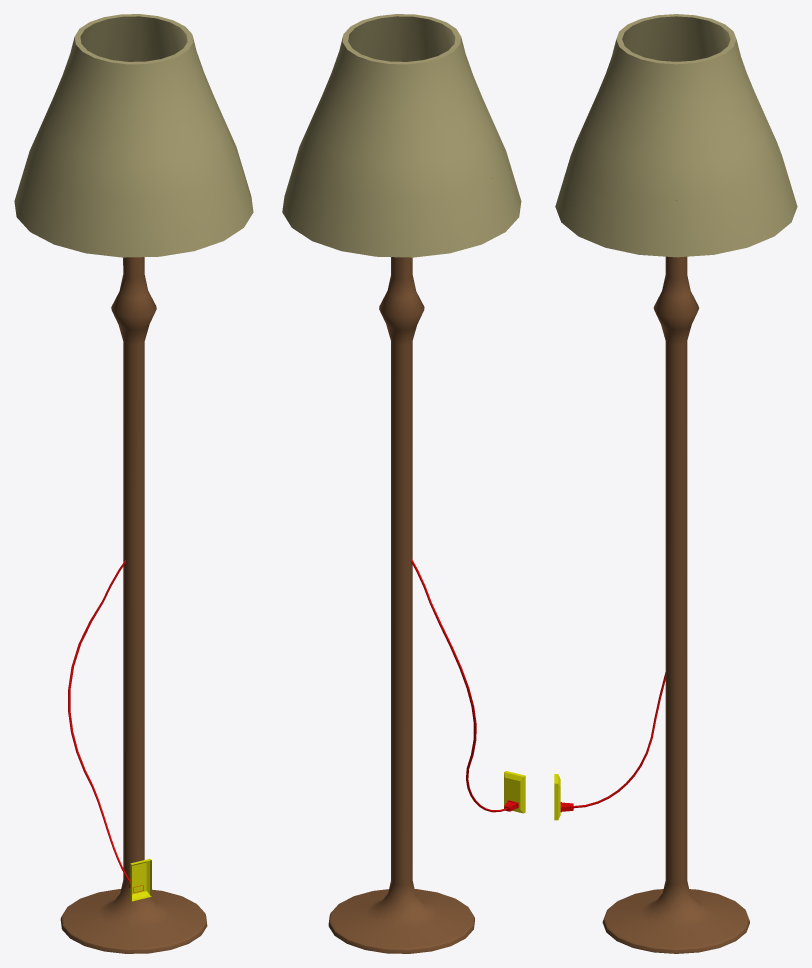
File: lampara_de_sala.fbx
3 views of the same model, side by side, from view 1: azimuth 30°, elevation 25°; view 2: azimuth 150°, elevation 25°; view 3: azimuth 270°, elevation 25° (orthographic).
Visible parts, largest first — view 1: pCylinder8; view 2: pCylinder8; view 3: pCylinder8.
Boxes of the visible parts, bbox=[...] form: pCylinder8: bbox=[14, 14, 253, 953]; pCylinder8: bbox=[282, 14, 525, 953]; pCylinder8: bbox=[554, 14, 797, 953].
Bounding box in the file's own units: 39.32 × 160 × 39.89.
